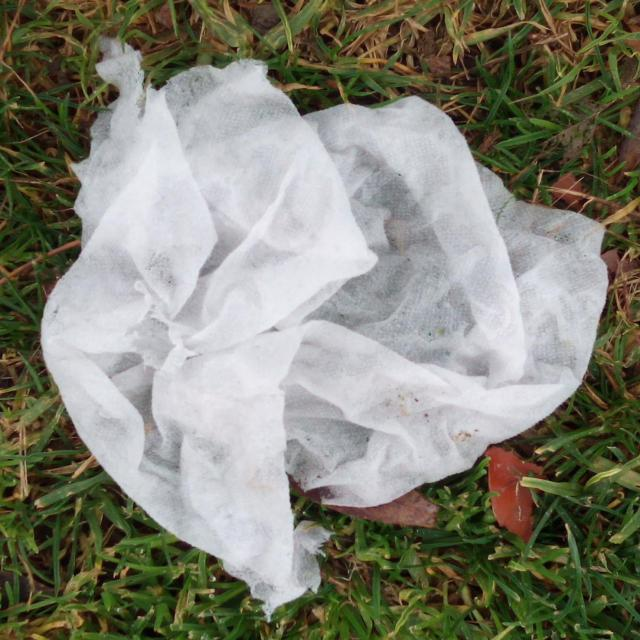litter: (33, 32, 620, 605)
